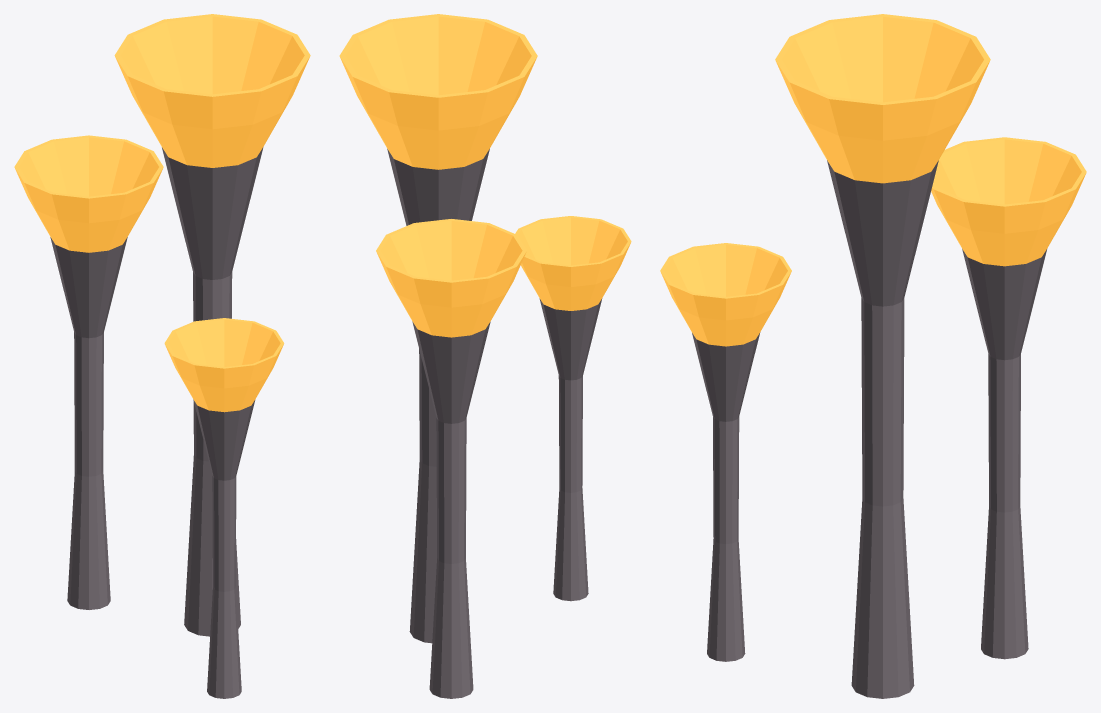
Rendered from trumpet_v02.glb.
The picture shows the model from 3 angles, left to right: view 1: azimuth 30°, elevation 25°; view 2: azimuth 150°, elevation 25°; view 3: azimuth 270°, elevation 25°; orthographic projection. The views are drawn at different scales.
Parts seen in each view (by area): view 1: mushroom_trumpet_glow_nocol, mushroom_trumpet_flesh_nocol; view 2: mushroom_trumpet_glow_nocol, mushroom_trumpet_flesh_nocol; view 3: mushroom_trumpet_flesh_nocol, mushroom_trumpet_glow_nocol.
Part boxes in pixels (x1,y1,x2,y2): mushroom_trumpet_glow_nocol: (14, 14, 310, 412); mushroom_trumpet_flesh_nocol: (50, 147, 263, 698); mushroom_trumpet_glow_nocol: (339, 14, 631, 337); mushroom_trumpet_flesh_nocol: (387, 149, 602, 698); mushroom_trumpet_flesh_nocol: (692, 160, 1046, 698); mushroom_trumpet_glow_nocol: (660, 14, 1086, 346).
Bounding box in the file's own units: 0.9193 × 2.3 × 1.42.
